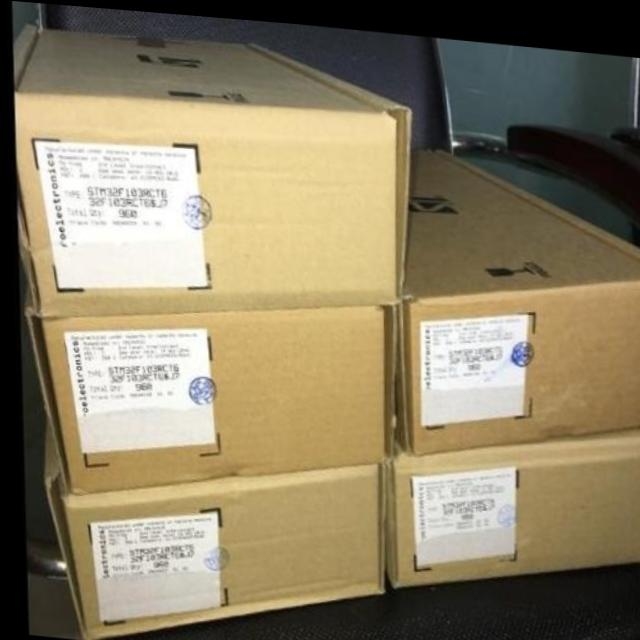box: (13, 23, 409, 311), (40, 414, 387, 637), (392, 140, 640, 450), (29, 297, 389, 495), (383, 418, 640, 581)
